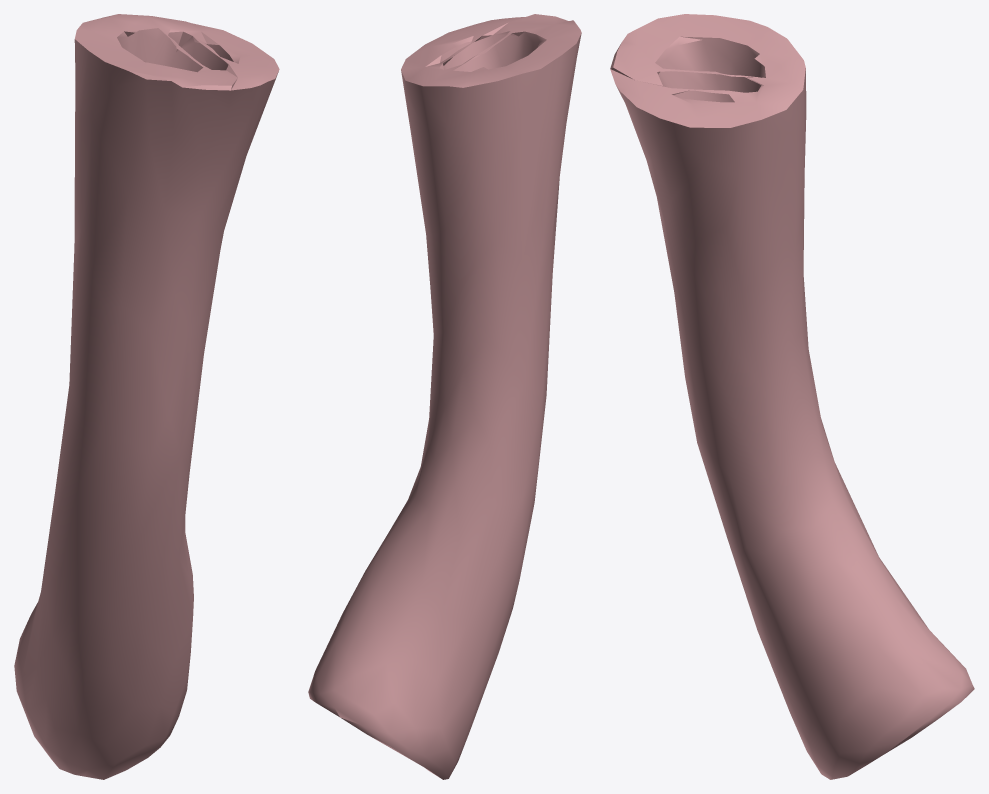
The model's file is fma59555_mm2206m.glb.
3 views of the same model, side by side, from view 1: azimuth 30°, elevation 25°; view 2: azimuth 150°, elevation 25°; view 3: azimuth 270°, elevation 25° (orthographic). The views are drawn at different scales.
Parts seen in each view (by area): view 1: FMA59555_MM2206M; view 2: FMA59555_MM2206M; view 3: FMA59555_MM2206M.
Boxes of the visible parts, x1=… form: FMA59555_MM2206M: x1=14, y1=14, x2=279, y2=779; FMA59555_MM2206M: x1=308, y1=14, x2=581, y2=779; FMA59555_MM2206M: x1=610, y1=14, x2=974, y2=779.
Bounding box in the file's own units: 0.00329 × 0.0138 × 0.00628.
